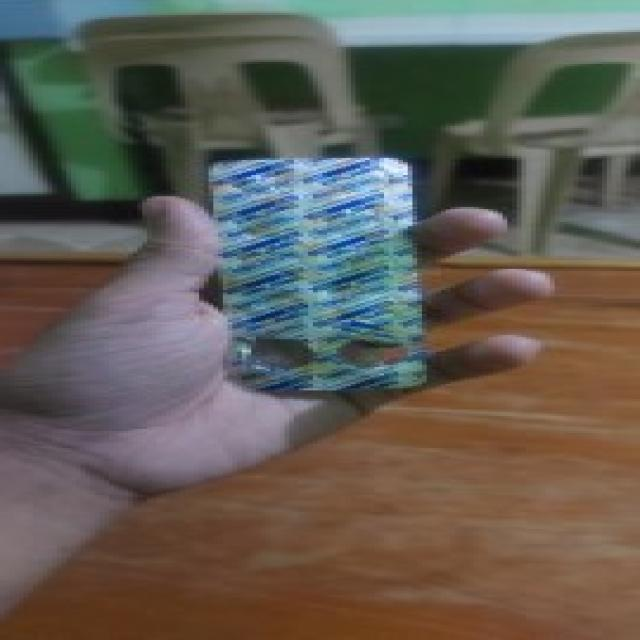Cacat: (206, 152, 420, 393)
Kemasan: (235, 329, 417, 377)
